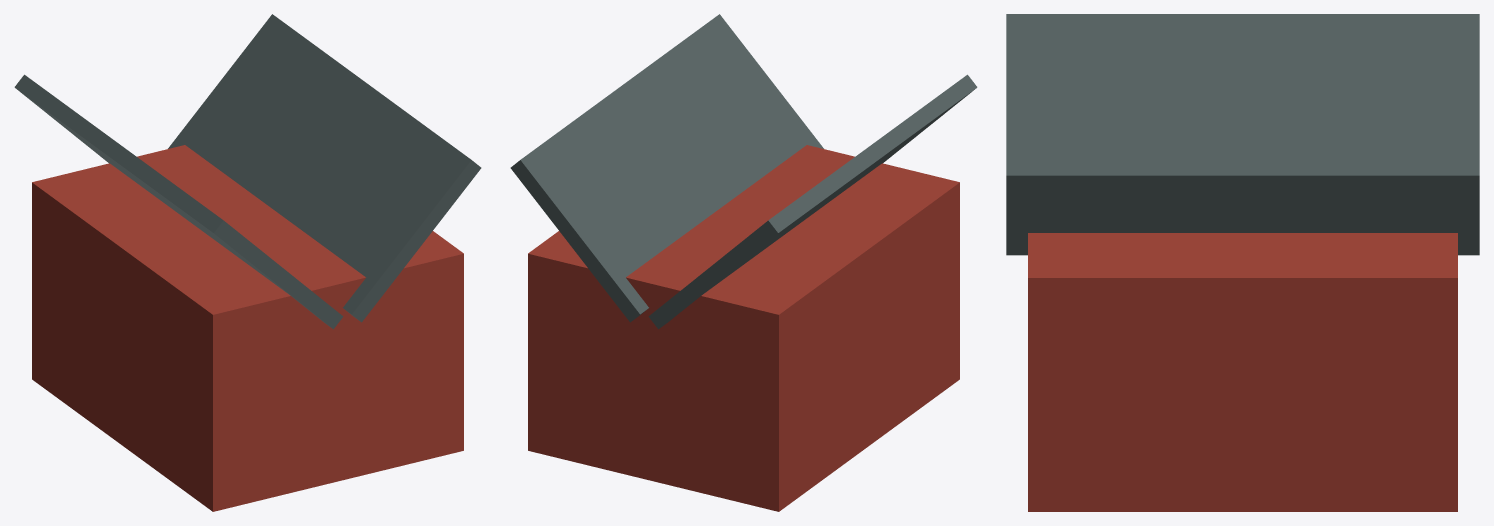
File: norway-house_lod1.glb
The picture shows the model from 3 angles, left to right: view 1: azimuth 30°, elevation 25°; view 2: azimuth 150°, elevation 25°; view 3: azimuth 270°, elevation 25°; orthographic projection. The views are drawn at different scales.
Visible parts, largest first — view 1: RF_House_Body, RF_House_Roof_B, RF_House_Roof_A; view 2: RF_House_Body, RF_House_Roof_B, RF_House_Roof_A; view 3: RF_House_Body, RF_House_Roof_A, RF_House_Roof_B.
Boxes of the visible parts, box(x1,y1,x2,y2) form: RF_House_Body: box(32, 145, 463, 511); RF_House_Roof_B: box(168, 14, 481, 322); RF_House_Roof_A: box(14, 74, 343, 329); RF_House_Body: box(528, 145, 959, 511); RF_House_Roof_B: box(510, 14, 823, 322); RF_House_Roof_A: box(648, 74, 977, 329); RF_House_Body: box(1028, 233, 1457, 511); RF_House_Roof_A: box(1006, 14, 1479, 157); RF_House_Roof_B: box(1006, 157, 1479, 255).
Size of the model in its own units: 8.54 by 9.07 by 11.
